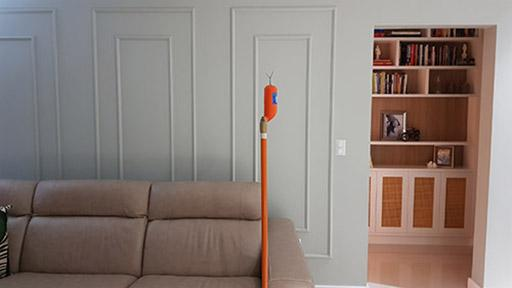Detector_Tensao_Contato: (262, 71, 278, 124)
Vara_Manobra: (258, 121, 269, 288)
